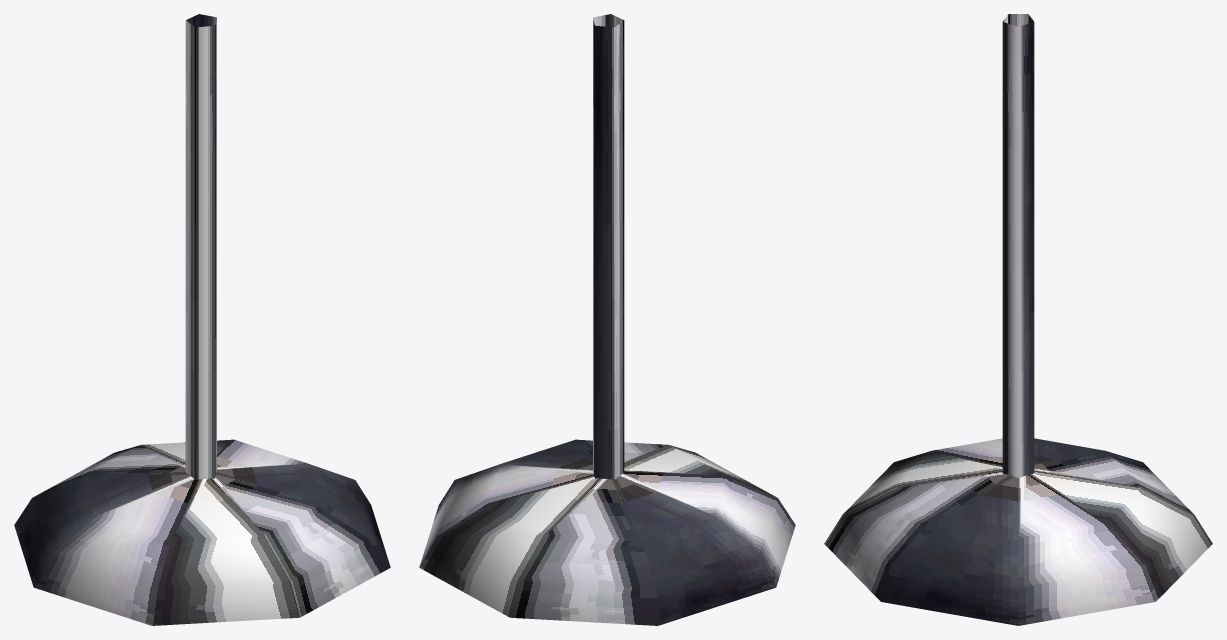
File: cord_50cm_3.fbx
The picture shows the model from 3 angles, left to right: view 1: azimuth 30°, elevation 25°; view 2: azimuth 150°, elevation 25°; view 3: azimuth 270°, elevation 25°; orthographic projection.
Parts seen in each view (by area): view 1: mesh_0; view 2: mesh_0; view 3: mesh_0.
Boxes of the visible parts, x1,y1,x2,y2 form: mesh_0: [14, 14, 390, 625]; mesh_0: [419, 14, 795, 625]; mesh_0: [824, 14, 1212, 625].
Bounding box in the file's own units: 33.62 × 50 × 33.62.
1 material, 1 textured.
